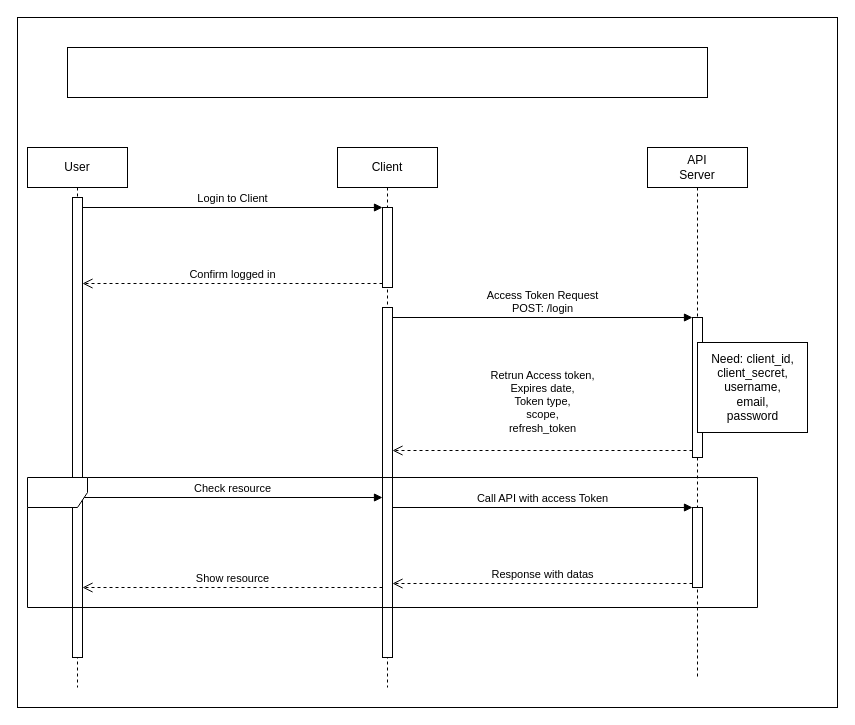
The diagram is 855 pixels wide and 725 high, and some of its shapes have lost their labels. The shapes that lost their labels are listed below. From the top down, each one's centre as x and y in pixels, then its label:
At (x=387, y=72): "Get Phone Sequence UML".
At (x=392, y=542): "loop".
